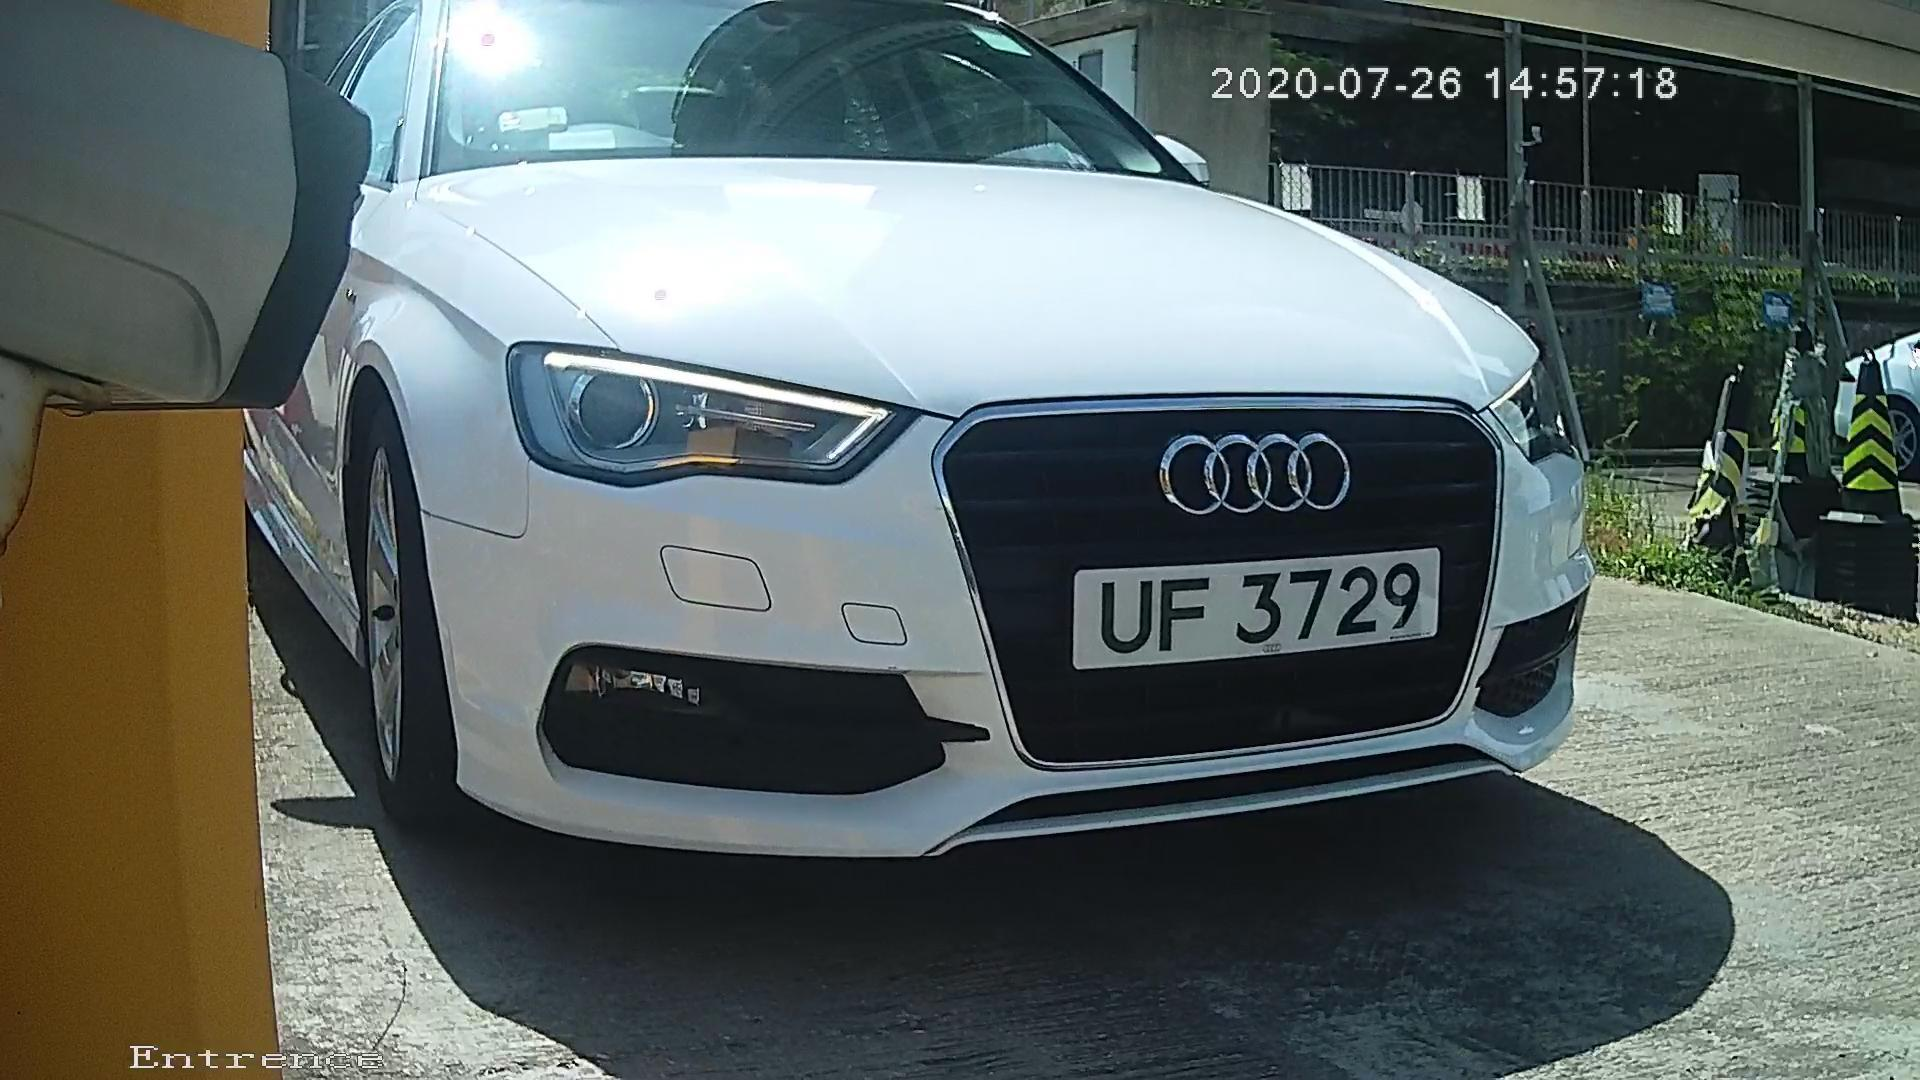privatecar: (171, 20, 1706, 920)
